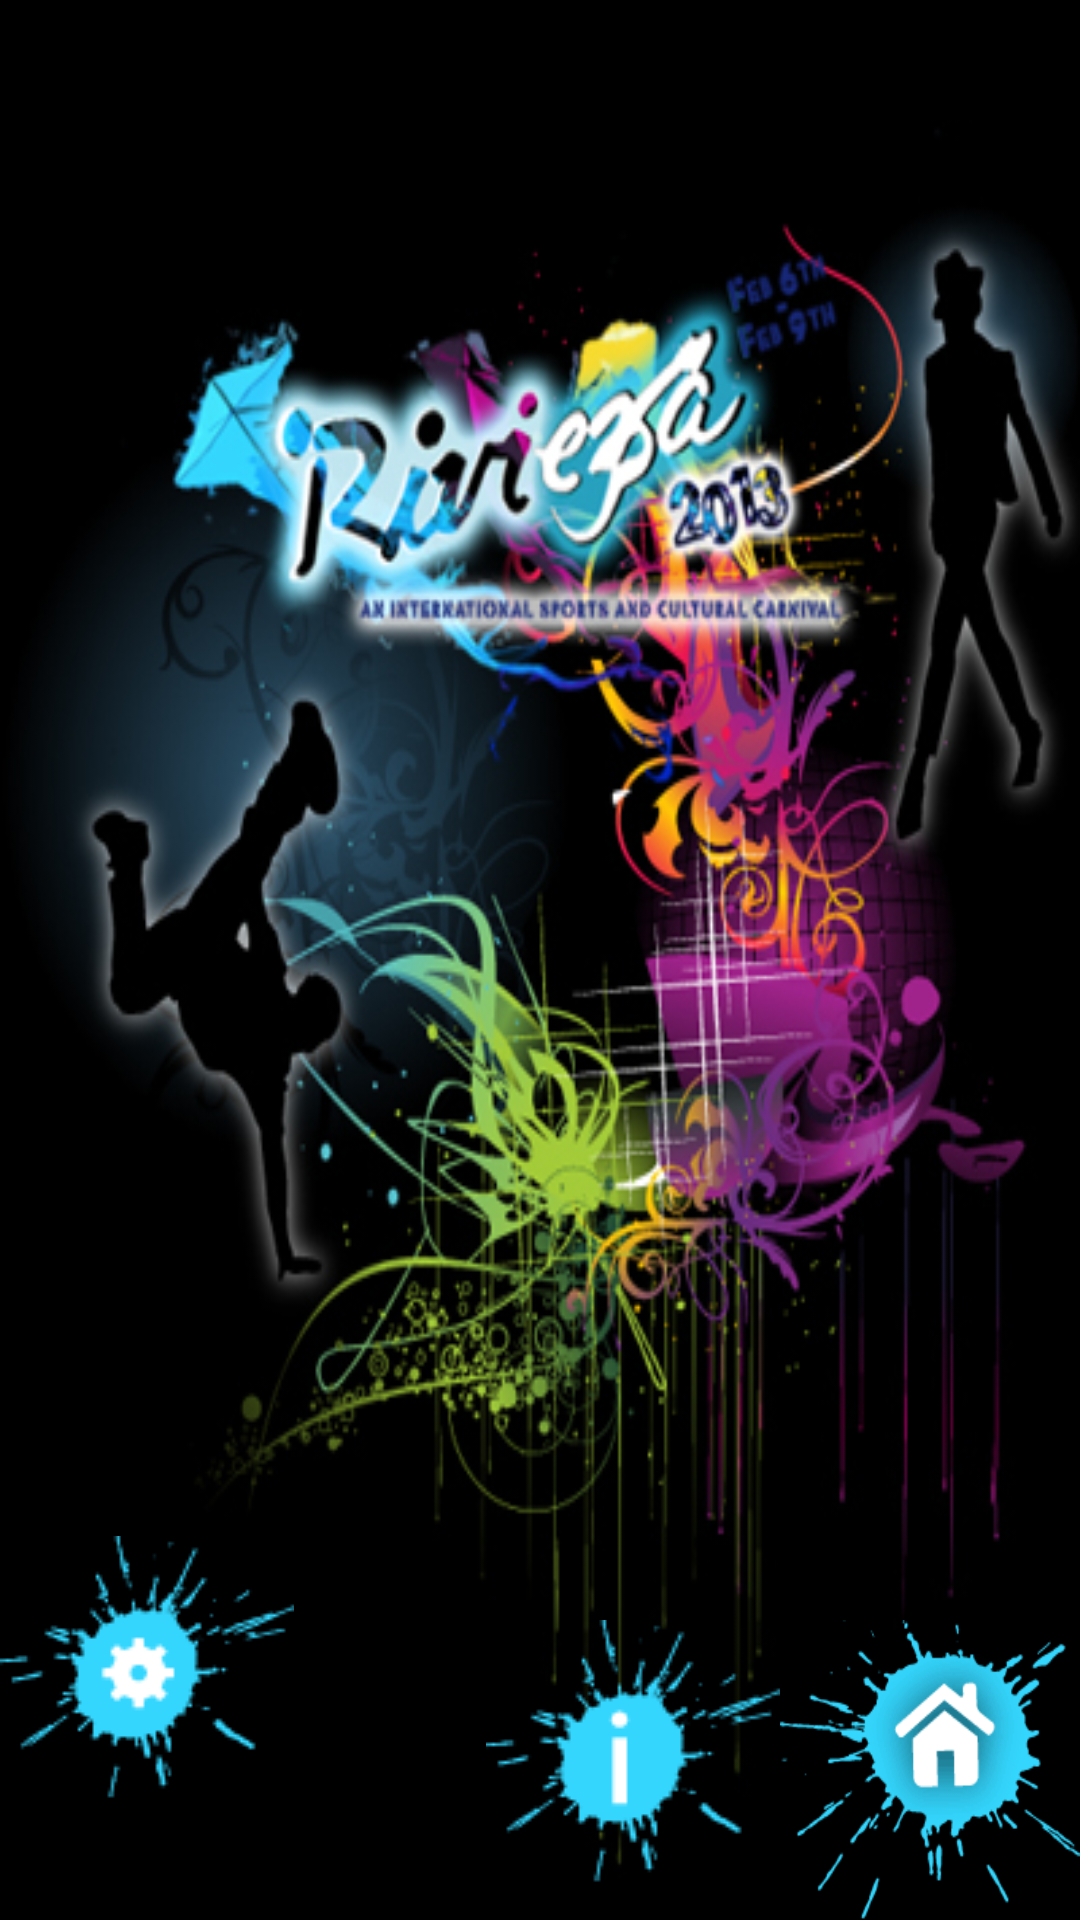

Screen size 1080w x 1920h. Icon name, then its center in pixels as (x,y):
home: (930,1769)
info: (633,1751)
